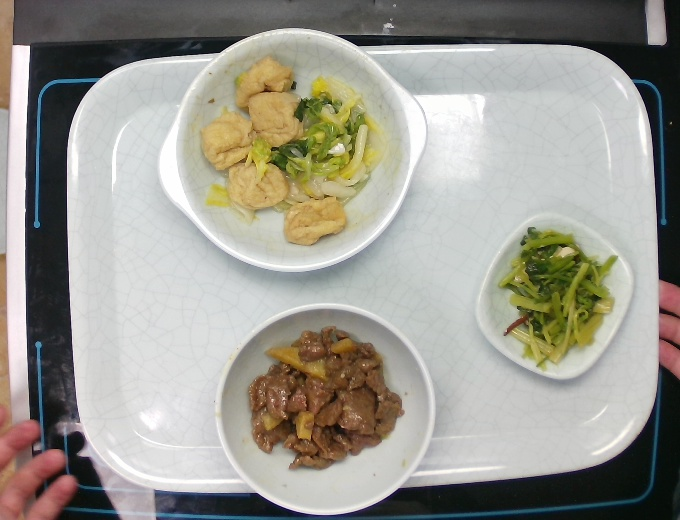JYsf-Fan_Wan: (214, 304, 438, 520)
JYsf-Shuang_Er_Wan: (153, 25, 432, 274)
JYsf-Si_Fang_Die: (471, 214, 638, 382)
